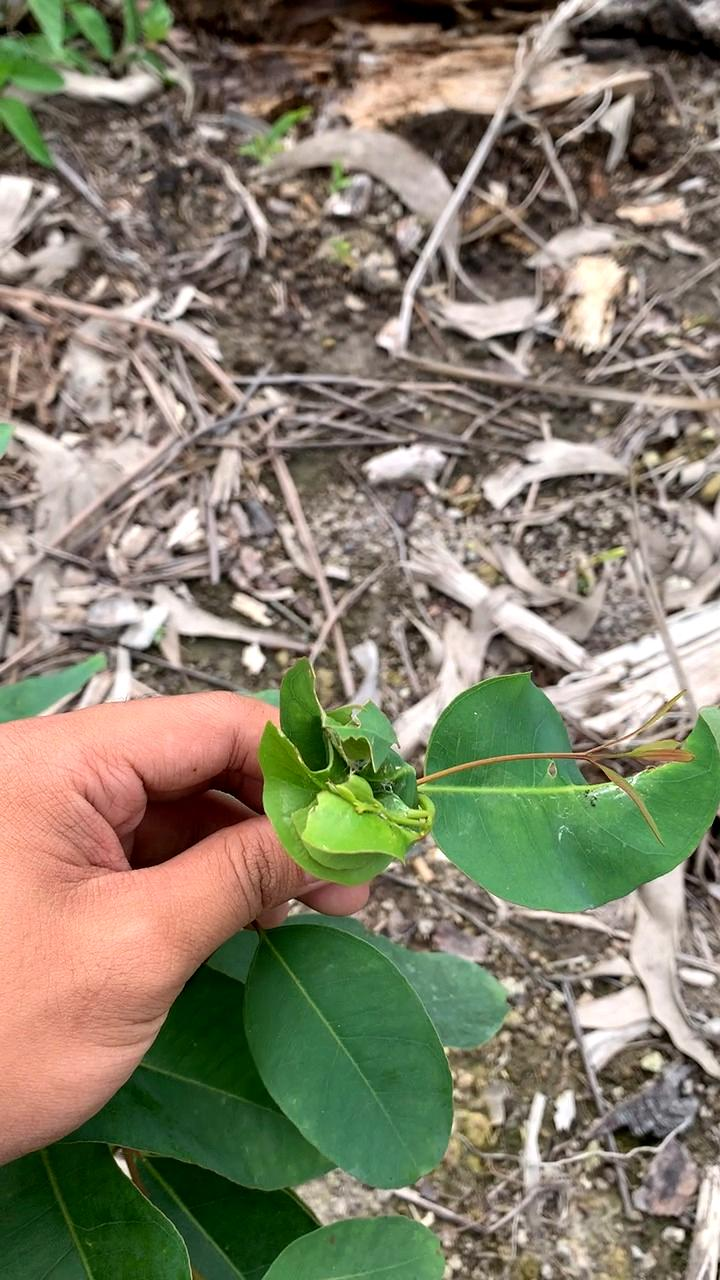Leaf Roller - Leaf: (250, 663, 437, 885)
